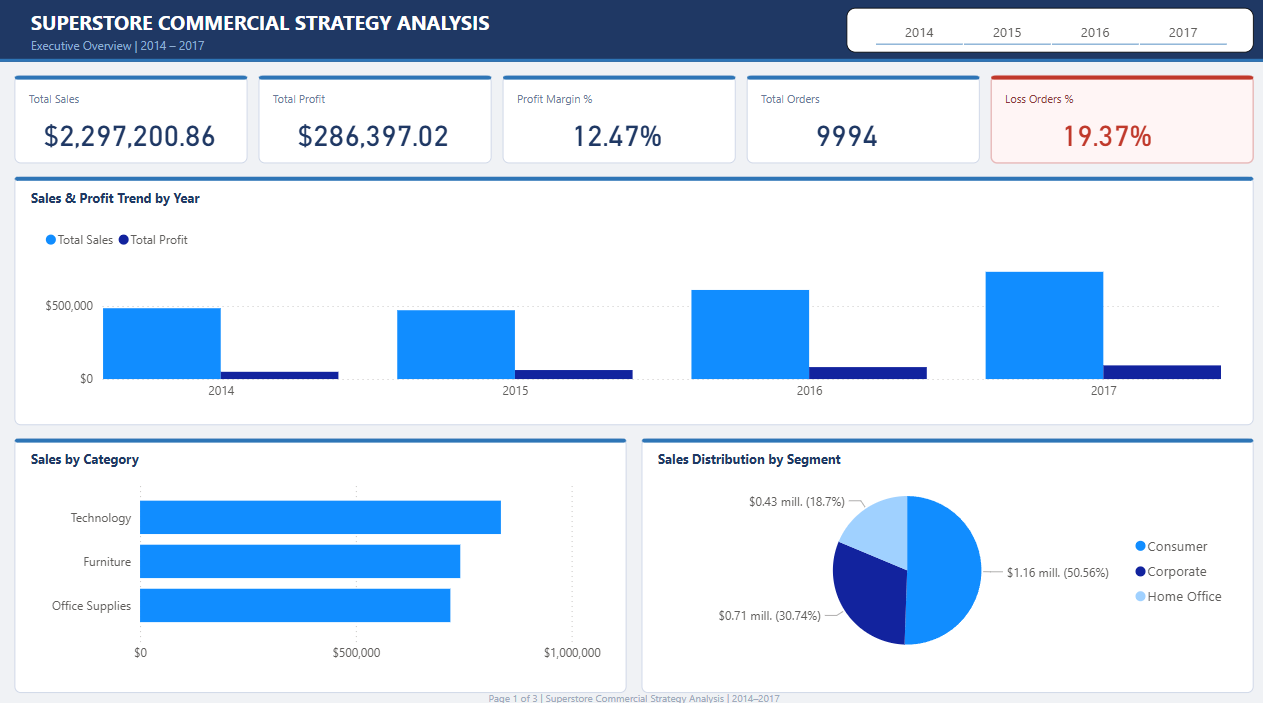

This screenshot's page, from the dashboard's own definition file:
{"tool":"powerbi","page":{"name":"Executive Overview","canvas":[1280,720],"ordinal":0},"visuals":[{"type":"shape","box":[25.7,208.6,280,24.3],"z":0},{"type":"shape","box":[25.7,471.4,280,24.3],"z":1000},{"type":"shape","box":[655.7,471.4,280,24.3],"z":2000},{"type":"card","fields":{"Values":["DAX Measures.Total Sales"]},"box":[26,111.1,209.2,47.6],"z":3000},{"type":"card","fields":{"Values":["DAX Measures.Total Profit"]},"box":[270,111.4,208.6,47.1],"z":4000},{"type":"card","fields":{"Values":["DAX Measures.Profit Margin %"]},"box":[514.3,111.4,208.6,47.1],"z":5000},{"type":"card","fields":{"Values":["DAX Measures.Total Orders"]},"box":[760,111.4,175.7,47.1],"z":6000},{"type":"card","fields":{"Values":["DAX Measures.Unprofitable Orders %"]},"box":[1004.3,111.4,208.6,47.1],"z":7000},{"type":"slicer","fields":{"Values":["Calendar.Year"]},"box":[847.5,8.8,407.5,45],"z":8000},{"type":"clusteredColumnChart","fields":{"Category":["Calendar.Year"],"Y":["DAX Measures.Total Sales","DAX Measures.Total Profit"]},"box":[41.8,220.7,1185.9,189],"z":9000},{"type":"barChart","fields":{"Y":["DAX Measures.Total Sales"],"Category":["Superstore_Data.Category"]},"box":[41.8,471.8,565.6,200.5],"z":10000},{"type":"pieChart","fields":{"Y":["DAX Measures.Total Sales"],"Category":["Superstore_Data.Segment"]},"box":[676.7,471.8,561.2,200.5],"z":11000}]}

Visuals, with their boxes in screenshot pixels (x1, y1, x2, y2), scaled from the page's 1280x720 canvas onto the 1263x703 screenshot:
shape: (25, 204, 302, 227)
shape: (25, 460, 302, 484)
shape: (647, 460, 923, 484)
card - DAX Measures.Total Sales: (26, 108, 232, 155)
card - DAX Measures.Total Profit: (266, 109, 472, 155)
card - DAX Measures.Profit Margin %: (507, 109, 713, 155)
card - DAX Measures.Total Orders: (750, 109, 923, 155)
card - DAX Measures.Unprofitable Orders %: (991, 109, 1197, 155)
slicer - Calendar.Year: (836, 9, 1238, 53)
clusteredColumnChart - Calendar.Year x DAX Measures.Total Sales: (41, 215, 1211, 400)
barChart - DAX Measures.Total Sales x Superstore_Data.Category: (41, 461, 599, 656)
pieChart - DAX Measures.Total Sales x Superstore_Data.Segment: (668, 461, 1221, 656)
